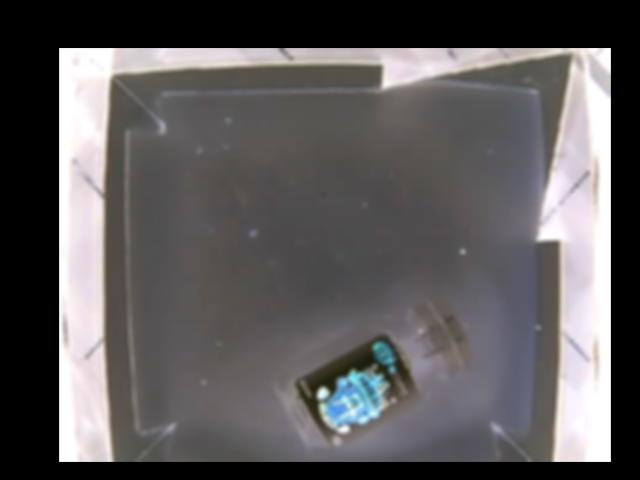Bottle: (269, 292, 474, 454)
